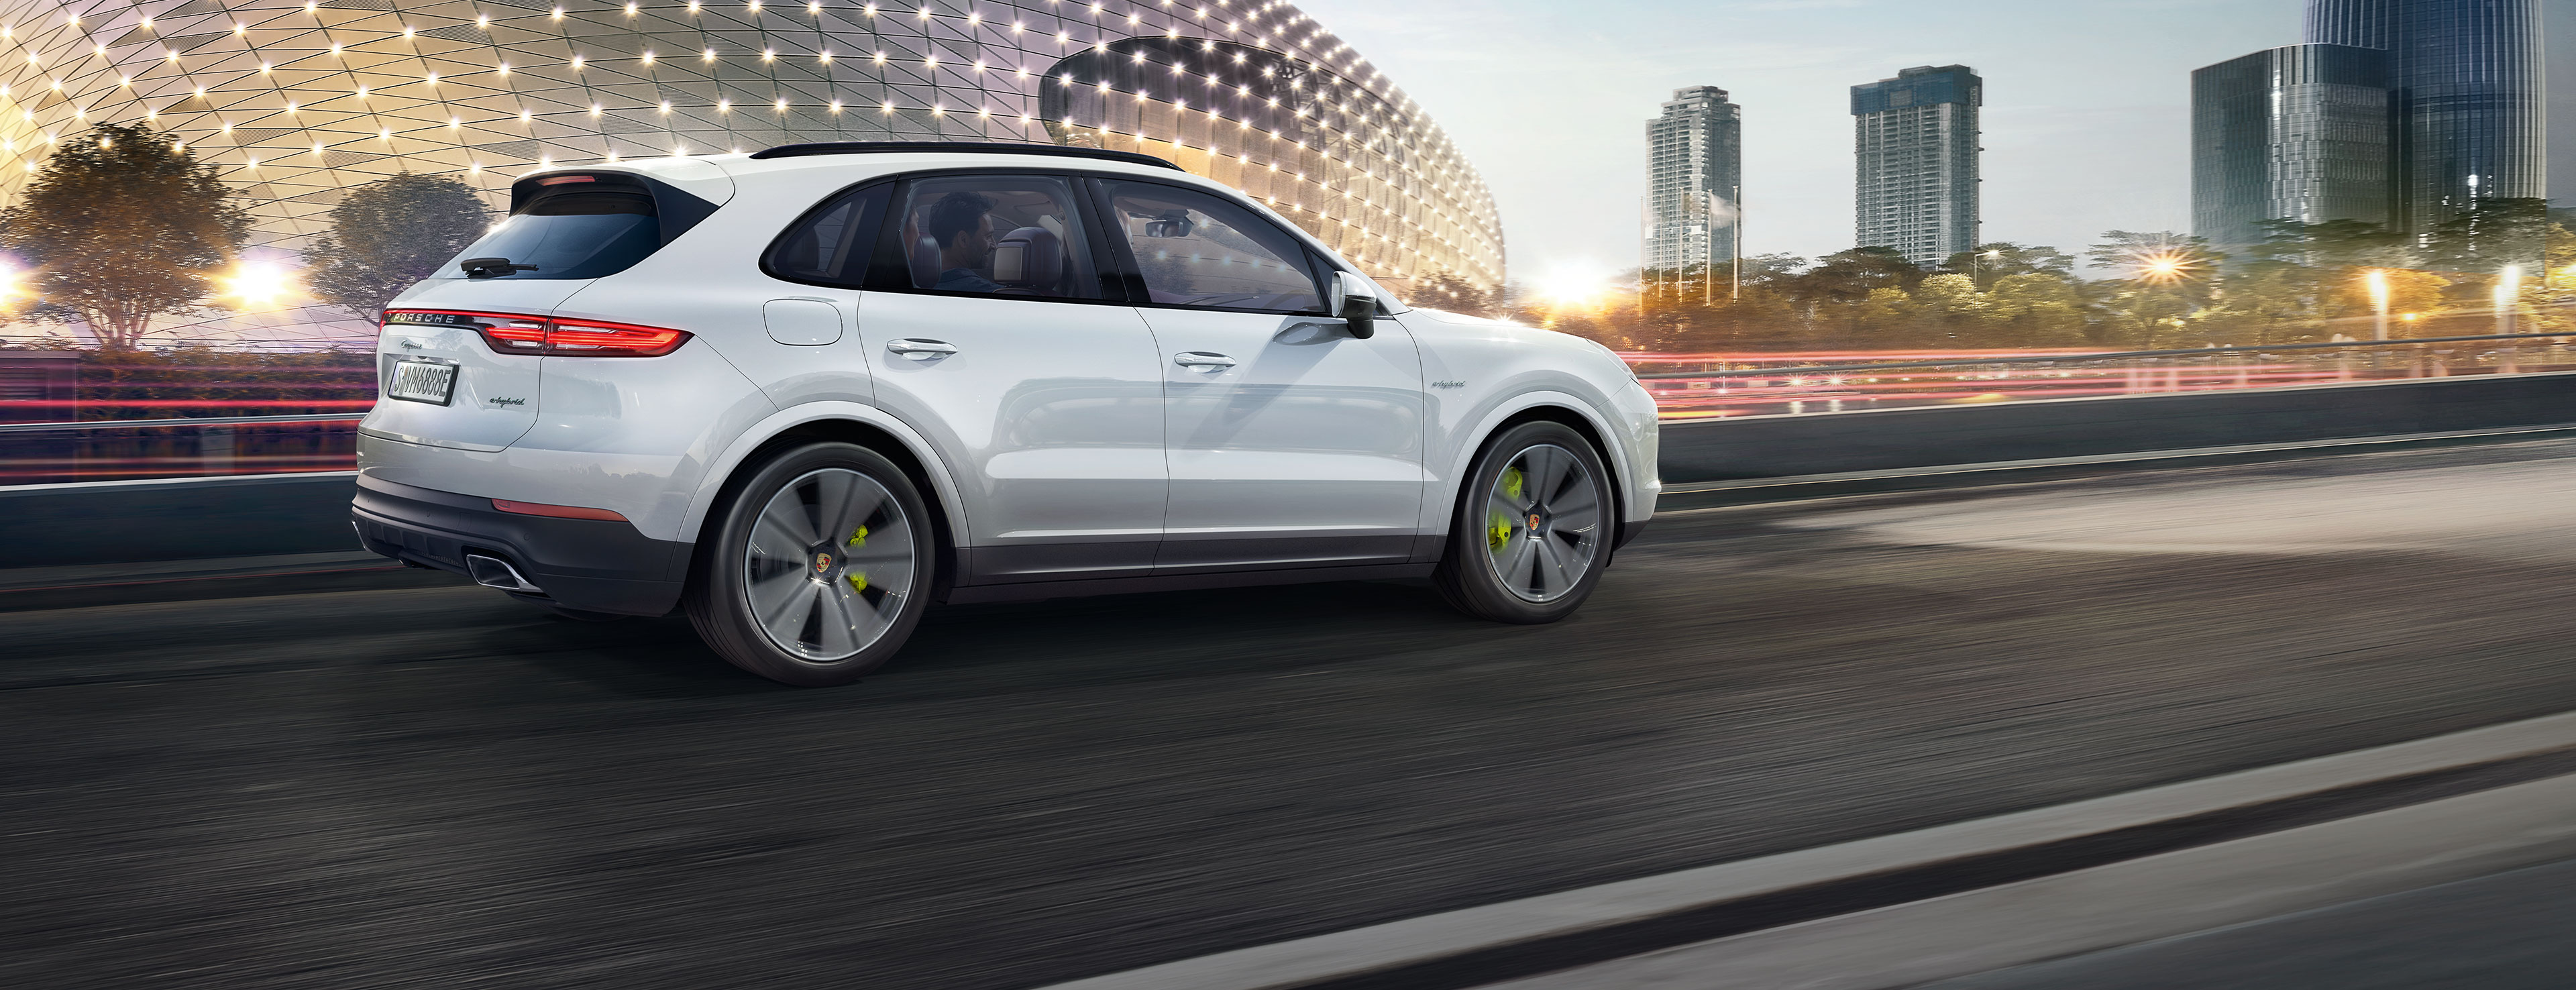car: (330, 135, 1697, 678)
